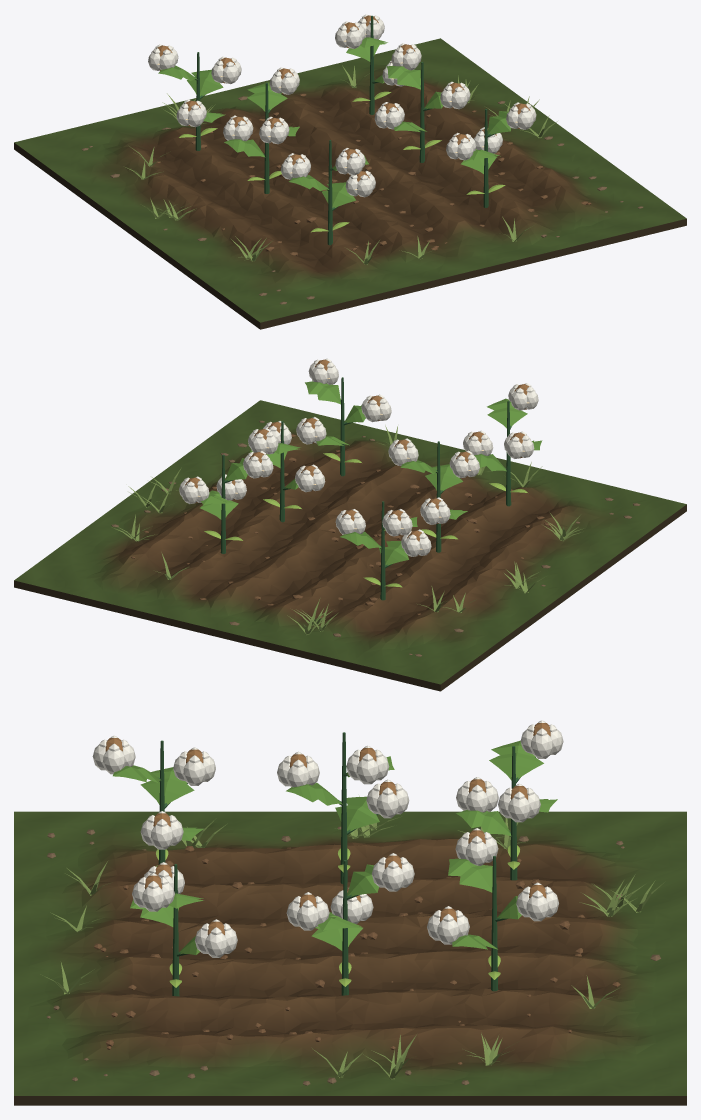
File: cotton-field.glb
The picture shows the model from 3 angles, top to bottom: view 1: azimuth 30°, elevation 25°; view 2: azimuth 150°, elevation 25°; view 3: azimuth 270°, elevation 25°; orthographic projection. The views are drawn at different scales.
Parts seen in each view (by area): view 1: Static_mesh, OpenCotton.013_mesh, OpenCotton.017_mesh, OpenCotton.005_mesh, OpenCotton.010_mesh, OpenCotton.007_mesh, OpenCotton.002_mesh, OpenCotton.004_mesh, OpenCotton.012_mesh, OpenCotton.008_mesh, OpenCotton.009_mesh, PalmateLeaf.008_mesh (+8 smaller); view 2: Static_mesh, PalmateLeaf.002_mesh, OpenCotton.004_mesh, OpenCotton.014_mesh, OpenCotton.017_mesh, OpenCotton.002_mesh, OpenCotton.006_mesh, OpenCotton.009_mesh, OpenCotton.001_mesh, OpenCotton.007_mesh, OpenCotton.012_mesh, OpenCotton.016_mesh (+8 smaller); view 3: Static_mesh, OpenCotton.016_mesh, OpenCotton.006_mesh, OpenCotton.008_mesh, OpenCotton_mesh, OpenCotton.013_mesh, OpenCotton.011_mesh, OpenCotton.003_mesh, OpenCotton.005_mesh, OpenCotton.014_mesh, PalmateLeaf.014_mesh, OpenCotton.001_mesh (+18 smaller).
Part boxes in pixels (x1,y1,x2,y2): Static_mesh: (14,38,686,329); OpenCotton.013_mesh: (211,56,241,84); OpenCotton.017_mesh: (335,21,365,48); OpenCotton.005_mesh: (506,102,536,129); OpenCotton.010_mesh: (440,81,470,109); OpenCotton.007_mesh: (259,116,289,144); OpenCotton.002_mesh: (335,148,365,175); OpenCotton.004_mesh: (446,132,476,160); OpenCotton.012_mesh: (176,99,206,127); OpenCotton.008_mesh: (269,67,299,94); OpenCotton.009_mesh: (374,102,404,129); PalmateLeaf.008_mesh: (247,82,287,111); Static_mesh: (14,400,686,691); PalmateLeaf.002_mesh: (487,398,527,428); OpenCotton.004_mesh: (361,394,391,422); OpenCotton.014_mesh: (382,509,412,536); OpenCotton.017_mesh: (243,451,273,478); OpenCotton.002_mesh: (508,383,538,410); OpenCotton.006_mesh: (420,497,450,524); OpenCotton.009_mesh: (295,464,325,492); OpenCotton.001_mesh: (504,431,534,458); OpenCotton.007_mesh: (449,450,479,478); OpenCotton.012_mesh: (401,529,431,556); OpenCotton.016_mesh: (179,476,209,503); Static_mesh: (14,811,686,1105); OpenCotton.016_mesh: (516,882,558,921); OpenCotton.006_mesh: (366,779,409,818); OpenCotton.008_mesh: (346,745,389,784); OpenCotton_mesh: (140,811,183,849); OpenCotton.013_mesh: (498,783,540,822); OpenCotton.011_mesh: (372,853,414,891); OpenCotton.003_mesh: (195,919,237,957); OpenCotton.005_mesh: (132,873,174,911); OpenCotton.014_mesh: (520,720,563,758); PalmateLeaf.014_mesh: (489,740,543,780); OpenCotton.001_mesh: (173,747,215,785).
Bounding box in the file's own units: 3.5 × 1.01 × 3.5.
